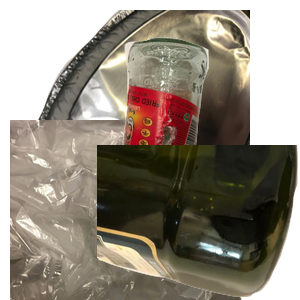glass: (112, 35, 300, 215)
metal: (18, 10, 258, 190)
plastic: (97, 145, 300, 300)
trash: (10, 120, 244, 300)
